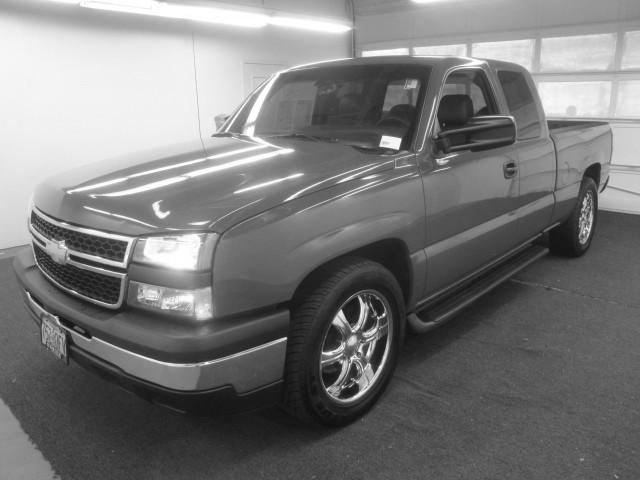car: (23, 55, 613, 419)
